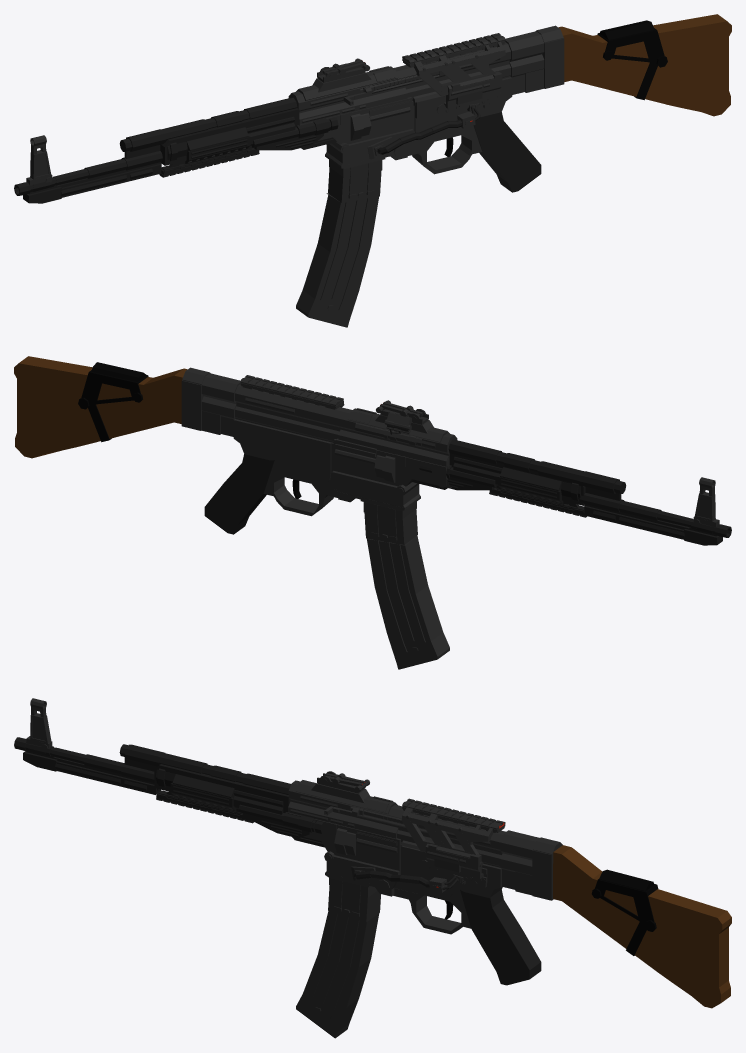
File: SturmGewehr52.fbx
3 views of the same model, one above another, from view 1: azimuth 30°, elevation 25°; view 2: azimuth 150°, elevation 25°; view 3: azimuth 330°, elevation 25° (orthographic).
Visible parts, largest first — view 1: Body, Stock, Magazine, Hand Guard, Barrel, Grip, Front Sight, Wires, ChargingHandle; view 2: Body, Stock, Magazine, Barrel, Hand Guard, Grip, Front Sight; view 3: Body, Stock, Magazine, Hand Guard, Barrel, Grip, Front Sight, Wires.
Part boxes in pixels (x1=…): Body: x1=288, y1=20, x2=667, y2=174; Stock: x1=558, y1=14, x2=731, y2=116; Magazine: x1=296, y1=160, x2=382, y2=327; Hand Guard: x1=159, y1=108, x2=338, y2=177; Barrel: x1=14, y1=97, x2=297, y2=203; Grip: x1=473, y1=112, x2=541, y2=192; Front Sight: x1=26, y1=58, x2=369, y2=185; Wires: x1=377, y1=105, x2=480, y2=154; ChargingHandle: x1=343, y1=71, x2=439, y2=105; Body: x1=78, y1=362, x2=457, y2=516; Stock: x1=14, y1=356, x2=187, y2=458; Magazine: x1=363, y1=501, x2=449, y2=669; Barrel: x1=448, y1=439, x2=731, y2=545; Hand Guard: x1=412, y1=453, x2=586, y2=517; Grip: x1=204, y1=454, x2=274, y2=534; Front Sight: x1=376, y1=400, x2=719, y2=527; Body: x1=287, y1=774, x2=658, y2=955; Stock: x1=553, y1=845, x2=731, y2=1008; Magazine: x1=296, y1=877, x2=380, y2=1038; Hand Guard: x1=154, y1=764, x2=324, y2=847; Barrel: x1=14, y1=737, x2=291, y2=794; Grip: x1=460, y1=889, x2=541, y2=985; Front Sight: x1=26, y1=698, x2=369, y2=793; Wires: x1=354, y1=870, x2=457, y2=889.
Size of the model in its own units: 4604 by 1613 by 305.
